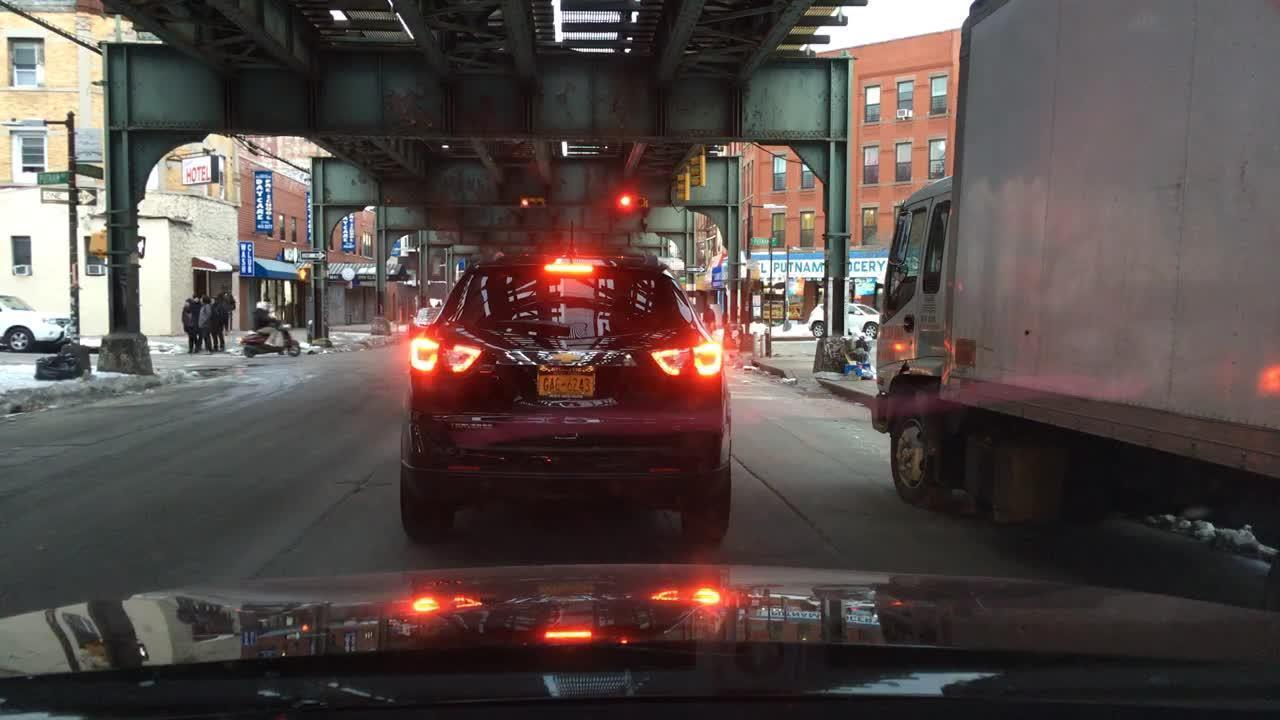chevrolet: (541, 346, 586, 367)
